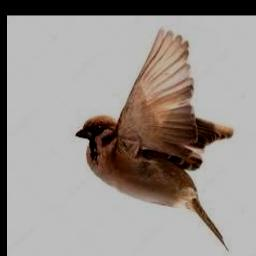Sparrow: (76, 27, 233, 251)
